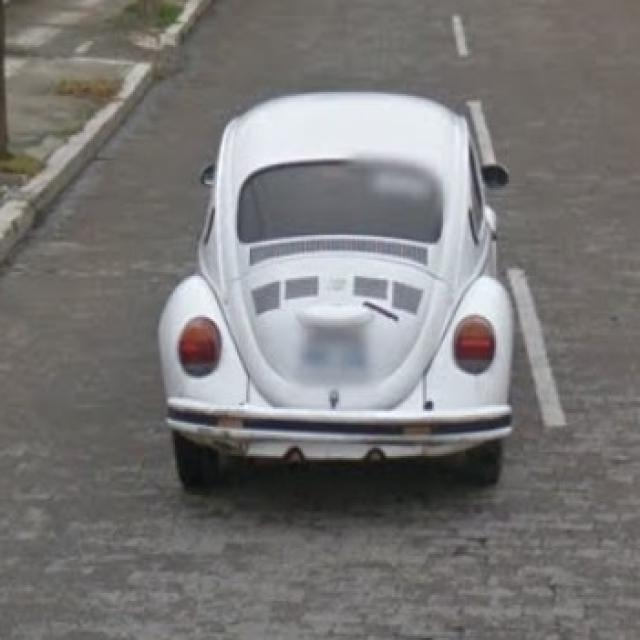car: (157, 89, 516, 490)
